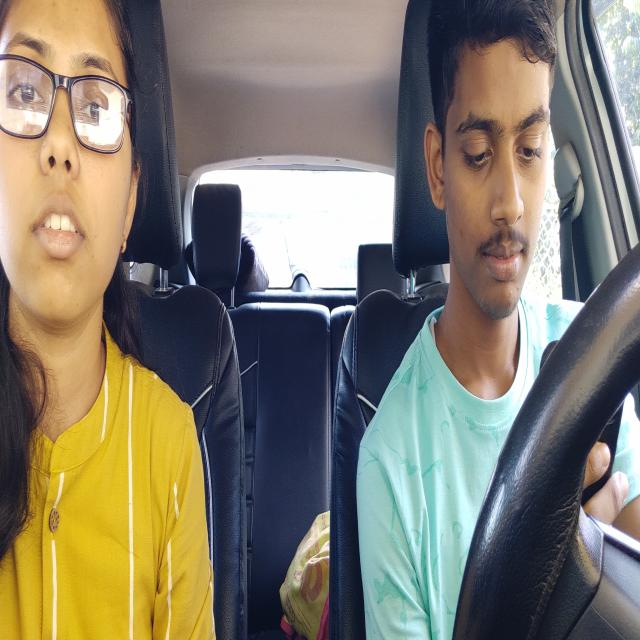mobile: (535, 337, 632, 532)
person: (0, 2, 149, 345), (417, 0, 564, 333)
